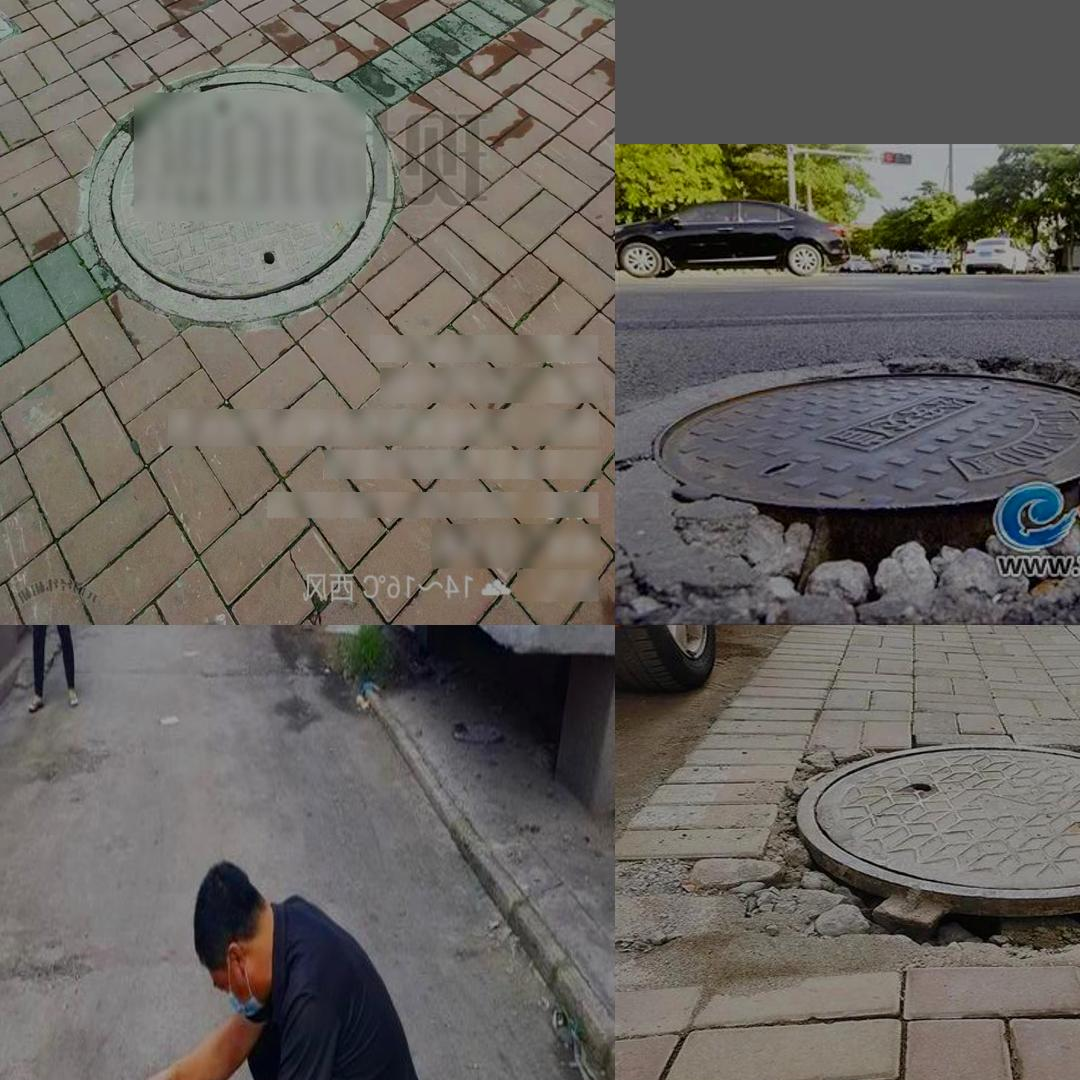circle: (627, 354, 1080, 597), (690, 743, 1080, 965), (83, 70, 400, 331)
